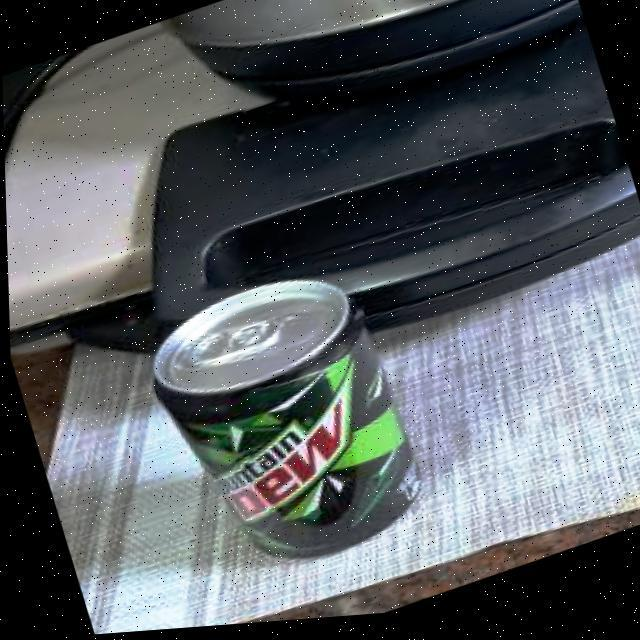Lata: (154, 281, 411, 556)
